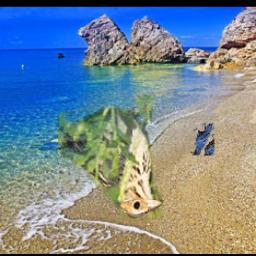Crow: (190, 123, 216, 156)
Sparrow: (58, 95, 163, 218)
